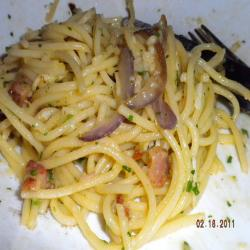carbonara: (2, 17, 239, 240)
